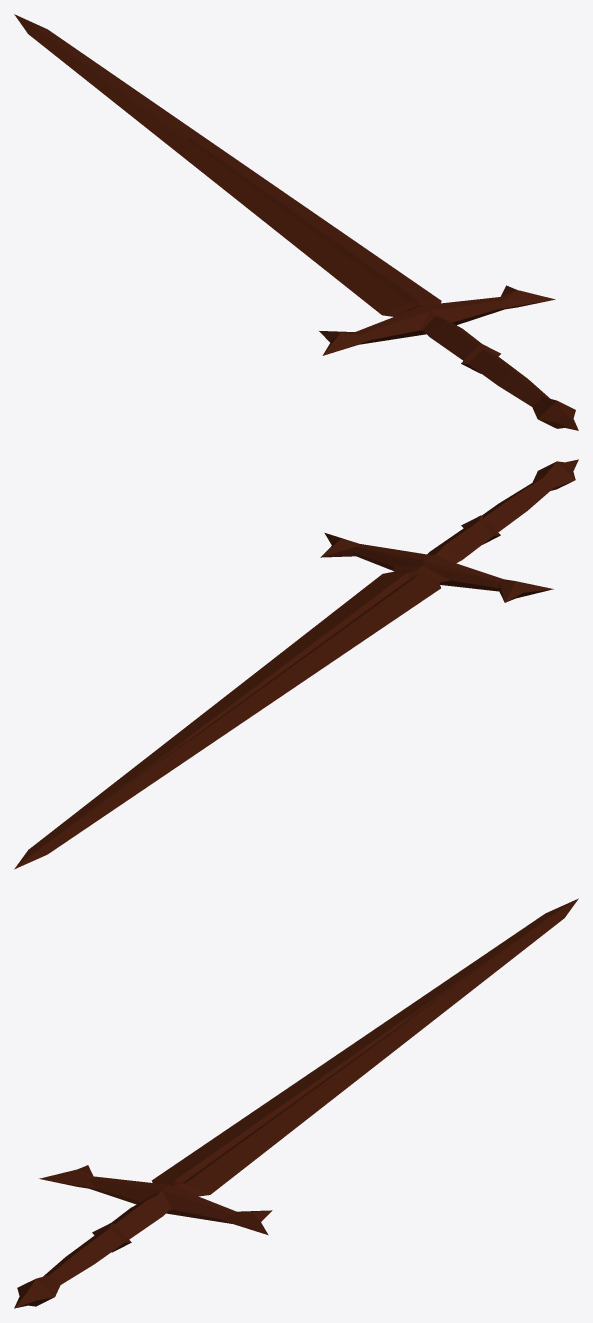
File: Great_Sword.glb
The picture shows the model from 3 angles, top to bottom: view 1: azimuth 30°, elevation 25°; view 2: azimuth 150°, elevation 25°; view 3: azimuth 330°, elevation 25°; orthographic projection.
Visible parts, largest first — view 1: Great_Sword; view 2: Great_Sword; view 3: Great_Sword.
Boxes of the visible parts, box(x1,y1,x2,y2) form: Great_Sword: box(14, 14, 578, 430); Great_Sword: box(14, 459, 578, 869); Great_Sword: box(14, 898, 578, 1308).
Size of the model in its own units: 47.71 by 6 by 201.
